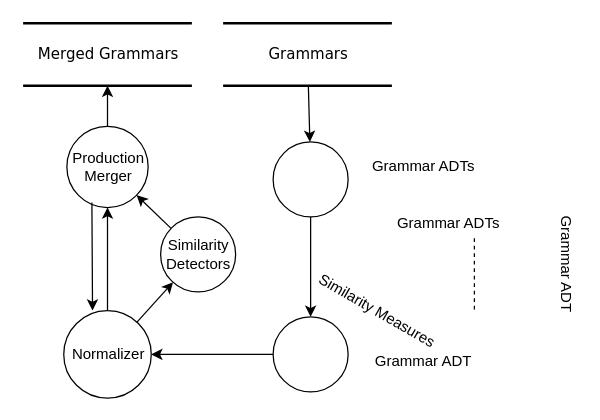
Some shapes in this 600 by 420 pixel diagram are drawn without their labels. Here are the shapes that lost their labels. From the top down, the centre of each, then its label:
At (310,179): "Parsers".
At (310,354): "Trivial Merger".
